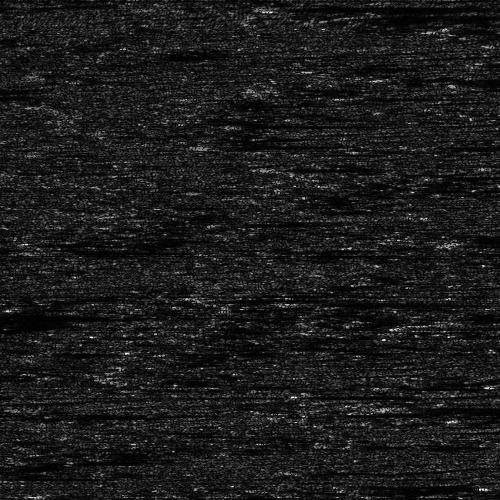object: (381, 235, 500, 250), (11, 240, 74, 259), (385, 320, 490, 327), (244, 161, 307, 172), (353, 403, 426, 410), (396, 143, 459, 148), (276, 300, 339, 305), (276, 0, 297, 12), (466, 378, 500, 385), (488, 442, 500, 451)
shadow: (287, 0, 500, 12), (43, 240, 150, 259), (276, 161, 396, 172), (308, 300, 469, 305), (448, 235, 500, 250), (390, 403, 500, 410), (0, 310, 103, 317), (437, 320, 500, 327), (428, 143, 500, 148), (487, 378, 500, 385)
